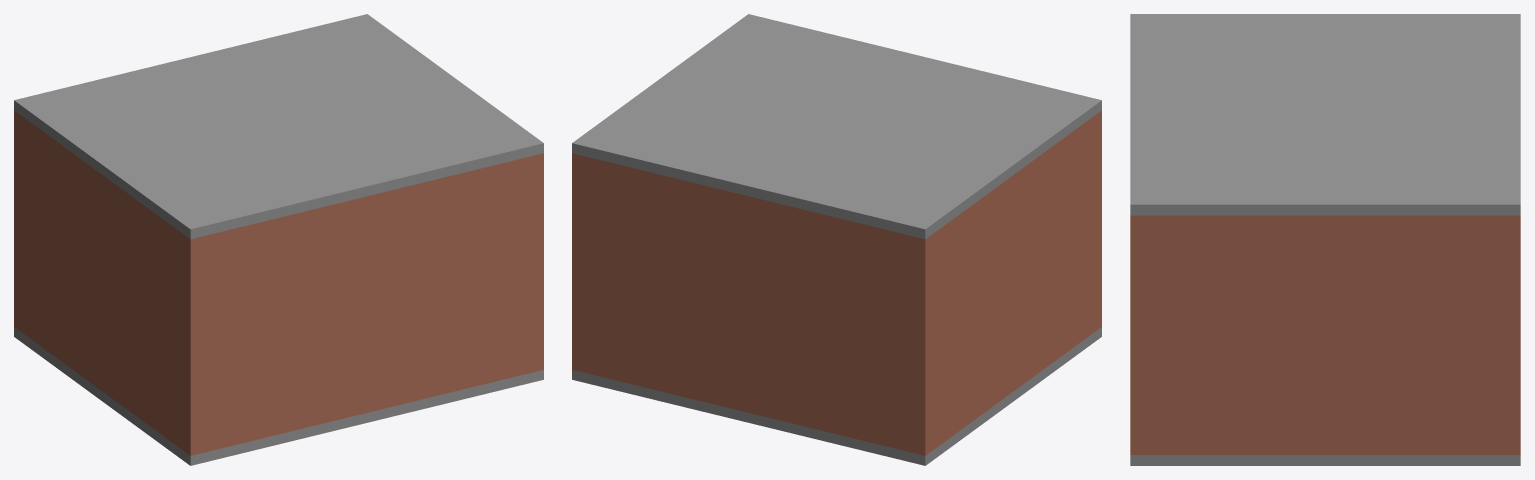
Rendered from sala_prueba_sketchup.dae.
The picture shows the model from 3 angles, left to right: view 1: azimuth 30°, elevation 25°; view 2: azimuth 150°, elevation 25°; view 3: azimuth 270°, elevation 25°; orthographic projection. The views are drawn at different scales.
Visible parts, largest first — view 1: SketchUp (×2); view 2: SketchUp (×2); view 3: SketchUp (×2).
Part boxes in pixels (x1=…): SketchUp (×2): x1=14, y1=14, x2=543, y2=465; SketchUp (×2): x1=572, y1=14, x2=1101, y2=465; SketchUp (×2): x1=1130, y1=14, x2=1520, y2=465.
Bounding box in the file's own units: 175 × 151 × 112.
